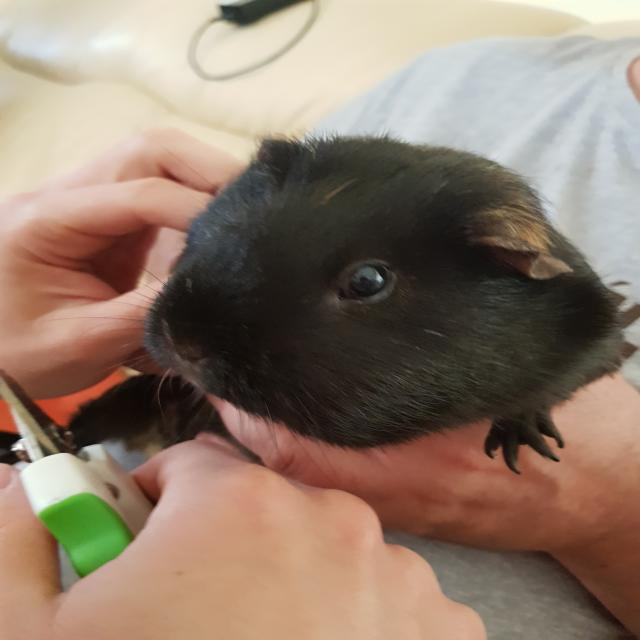guinea pig: (2, 136, 632, 476)
